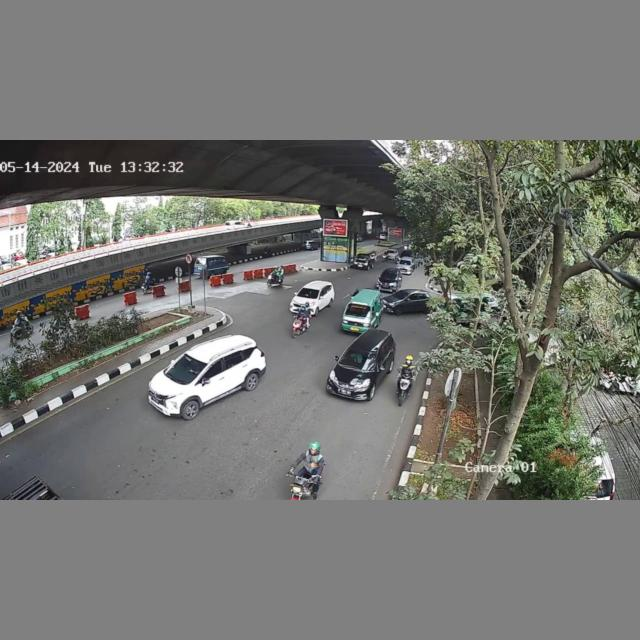windshield: (162, 352, 208, 383), (341, 346, 376, 372), (344, 304, 371, 319), (297, 285, 320, 299)
